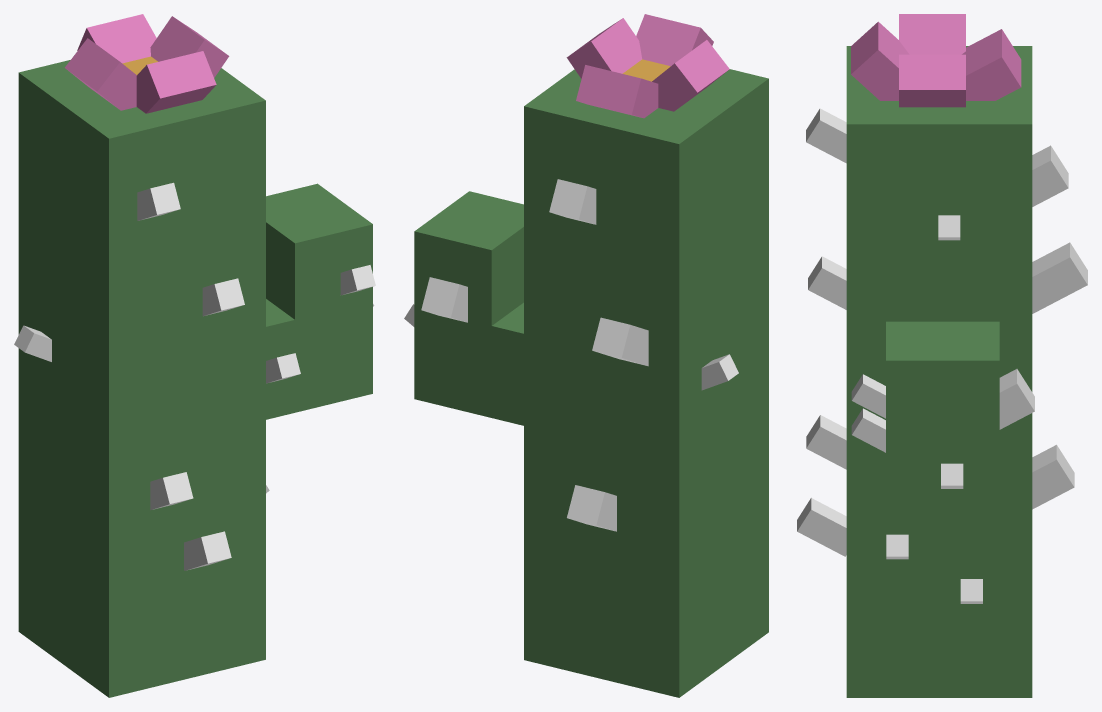
The model's file is cacti_w_flower.fbx.
The picture shows the model from 3 angles, left to right: view 1: azimuth 30°, elevation 25°; view 2: azimuth 150°, elevation 25°; view 3: azimuth 270°, elevation 25°; orthographic projection. The views are drawn at different scales.
Visible parts, largest first — view 1: cacti_with_flower; view 2: cacti_with_flower; view 3: cacti_with_flower.
Boxes of the visible parts, x1,y1,x2,y2 form: cacti_with_flower: (14,14,375,697); cacti_with_flower: (404,14,768,697); cacti_with_flower: (797,14,1087,697).
Bounding box in the file's own units: 5.67 × 9.75 × 4.11.
